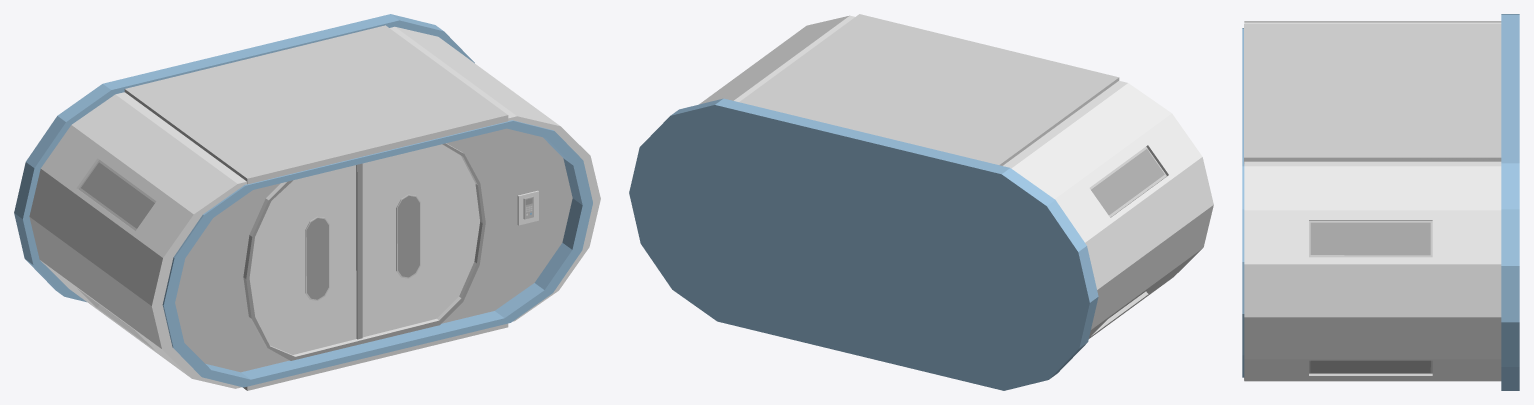
3 renders of one model, left to right at view 1: azimuth 30°, elevation 25°; view 2: azimuth 150°, elevation 25°; view 3: azimuth 270°, elevation 25°, orthographic. The views are drawn at different scales.
Parts seen in each view (by area): view 1: Cube_1; view 2: Cube_1; view 3: Cube_1.
Boxes of the visible parts, x1,y1,x2,y2 form: Cube_1: (14, 14, 600, 390); Cube_1: (629, 14, 1213, 390); Cube_1: (1242, 14, 1519, 390).
Bounding box in the file's own units: 975 × 438 × 482.
